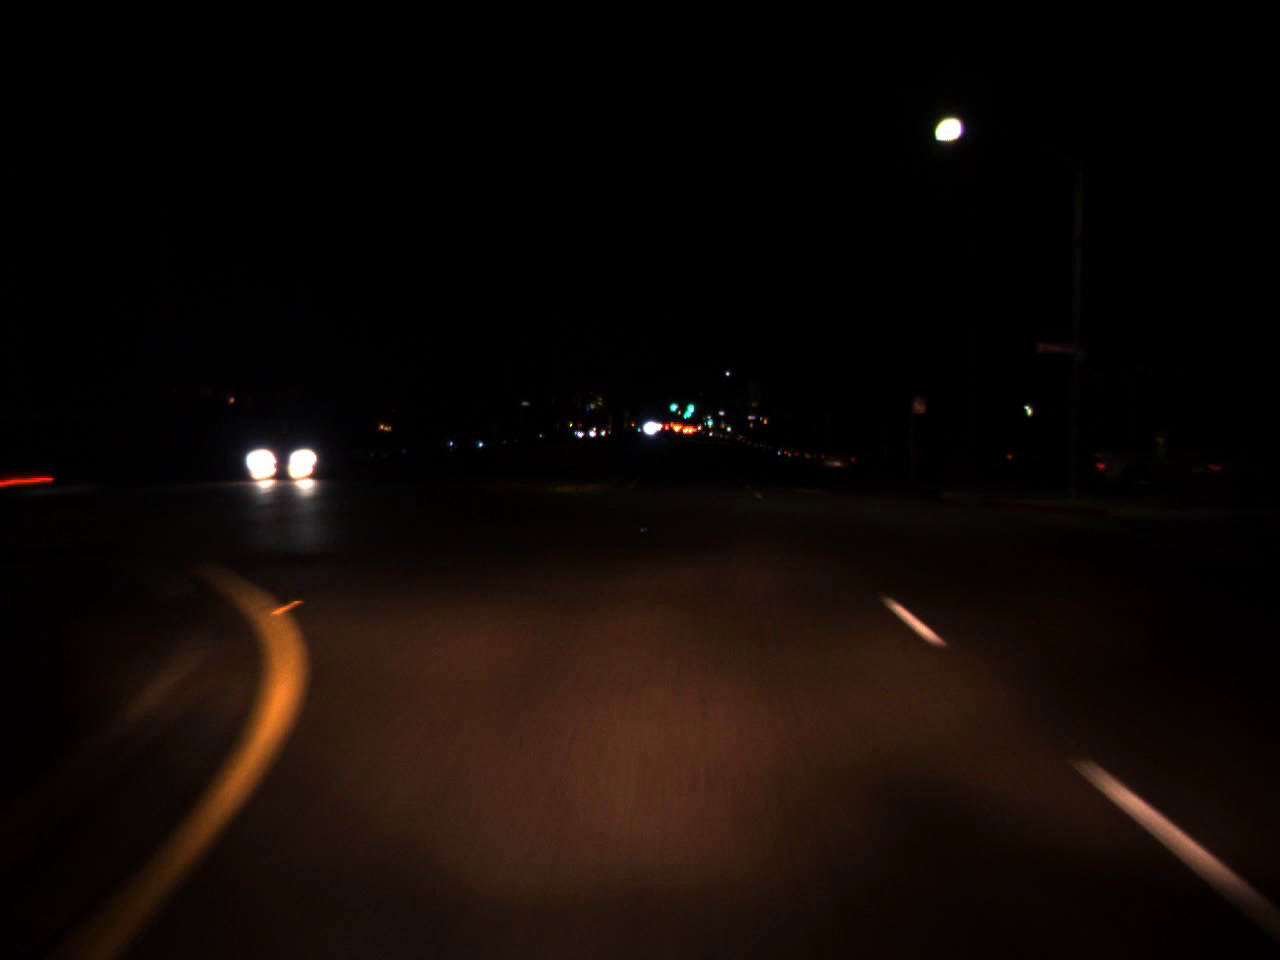go: (682, 393, 696, 417), (667, 393, 677, 414), (706, 411, 713, 429)
